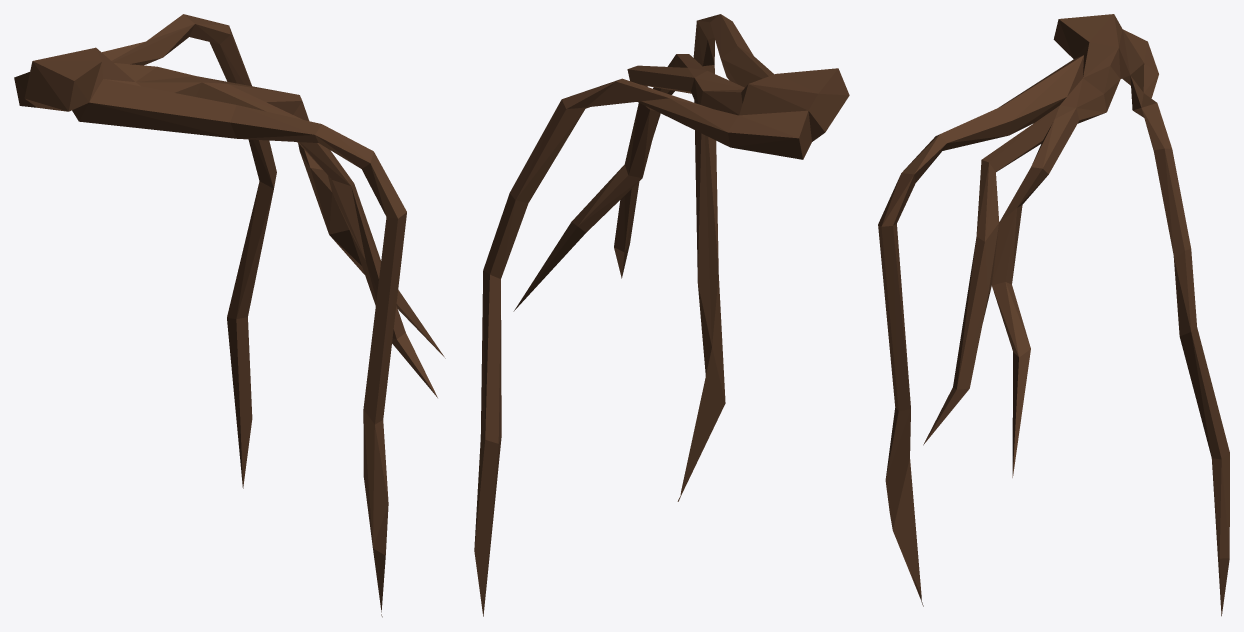
The model's file is SM_roots_hanging_03.fbx.
The picture shows the model from 3 angles, left to right: view 1: azimuth 30°, elevation 25°; view 2: azimuth 150°, elevation 25°; view 3: azimuth 270°, elevation 25°; orthographic projection. The views are drawn at different scales.
Parts seen in each view (by area): view 1: Object125; view 2: Object125; view 3: Object125.
Boxes of the visible parts, bbox=[...] form: Object125: bbox=[14, 14, 445, 617]; Object125: bbox=[474, 14, 849, 616]; Object125: bbox=[878, 14, 1229, 616].
Bounding box in the file's own units: 211 × 298 × 196.
